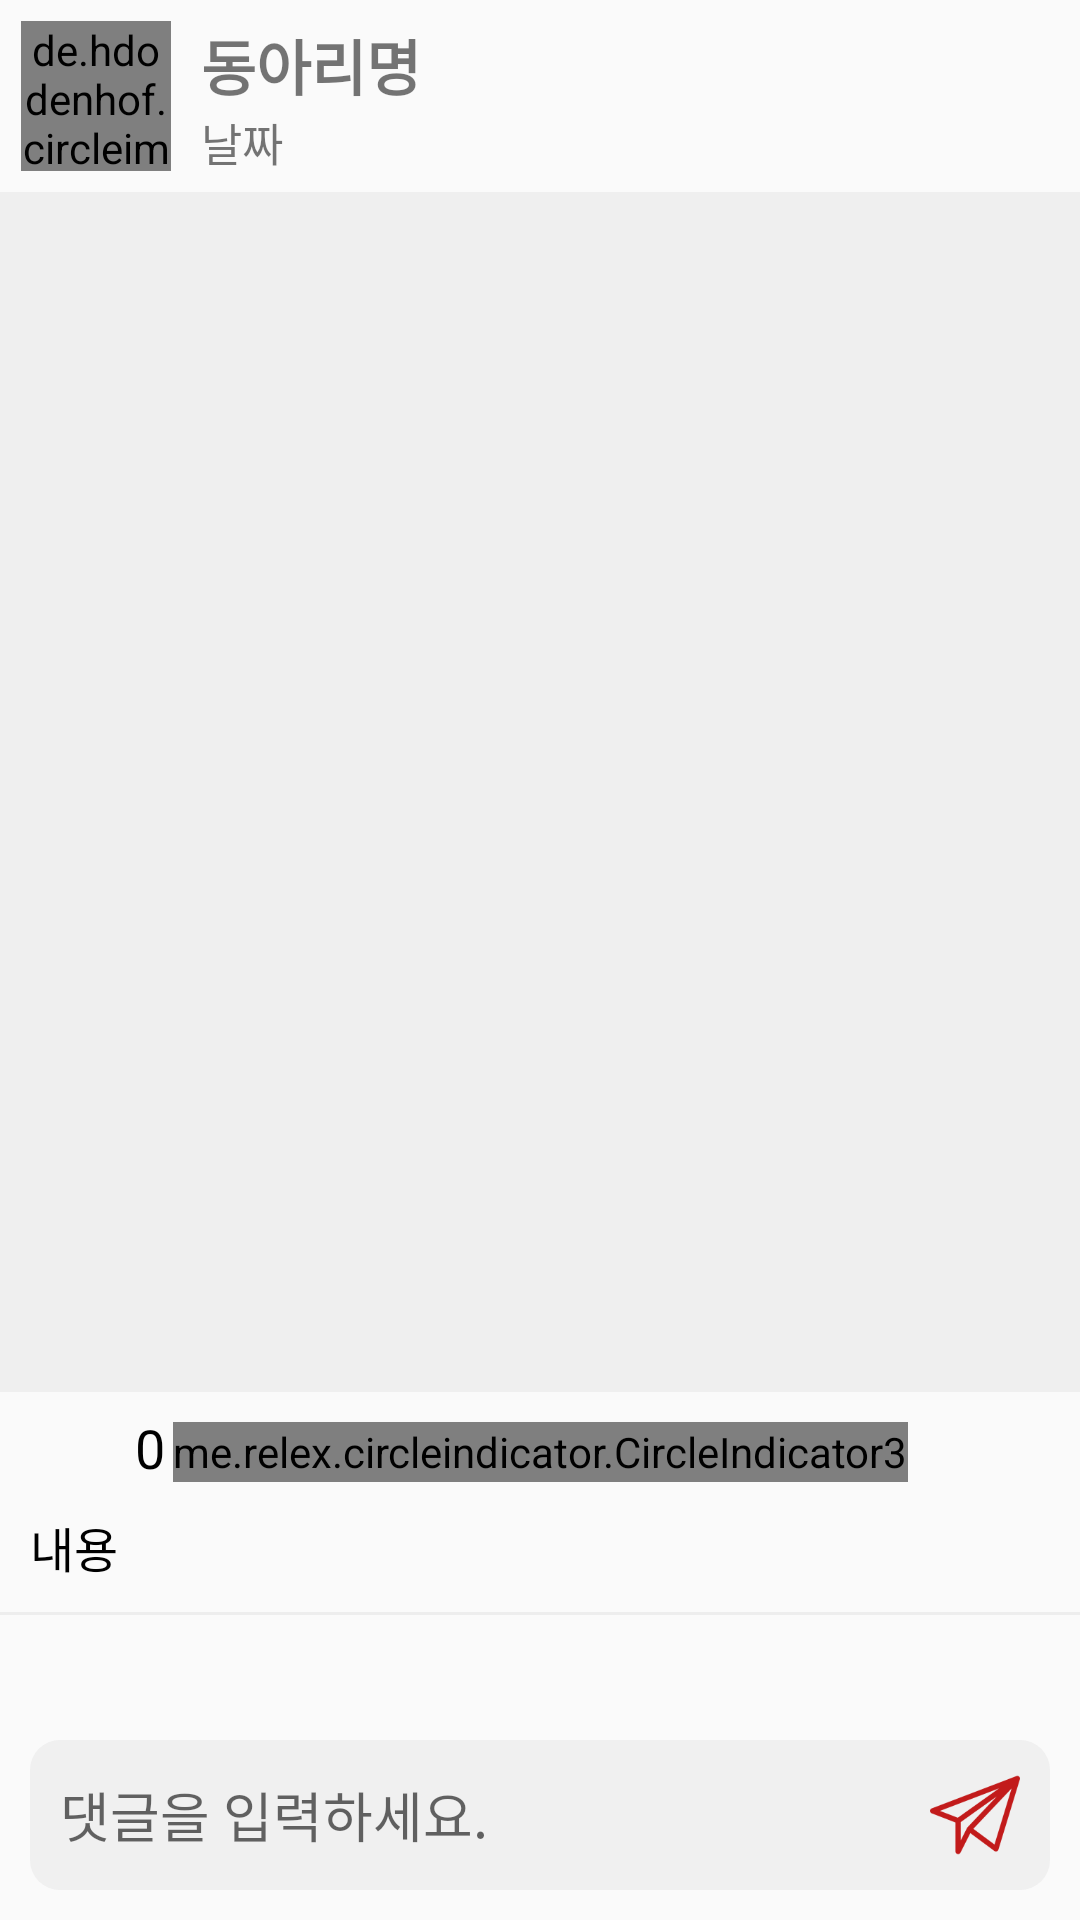

Where icons sit on this 1080px x 1920px app screen, as (x1, y1, x2, y2):
send: (930, 1775, 1020, 1855)
